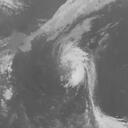cyclone: (57, 36, 96, 89)
